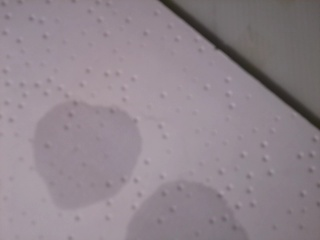Water_detected: (54, 122, 130, 186), (144, 192, 211, 240)
